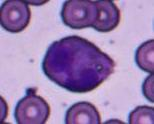E: (41, 35, 113, 92)
